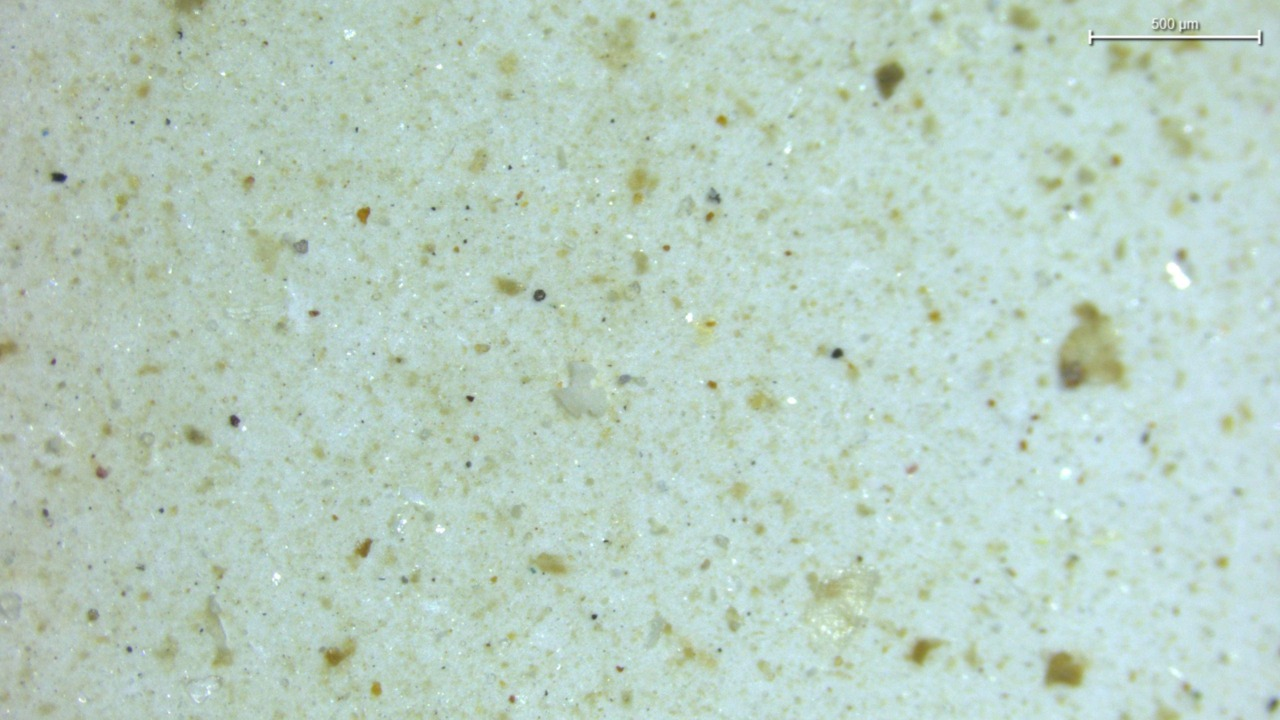microplastic_fragment: (553, 362, 608, 416)
